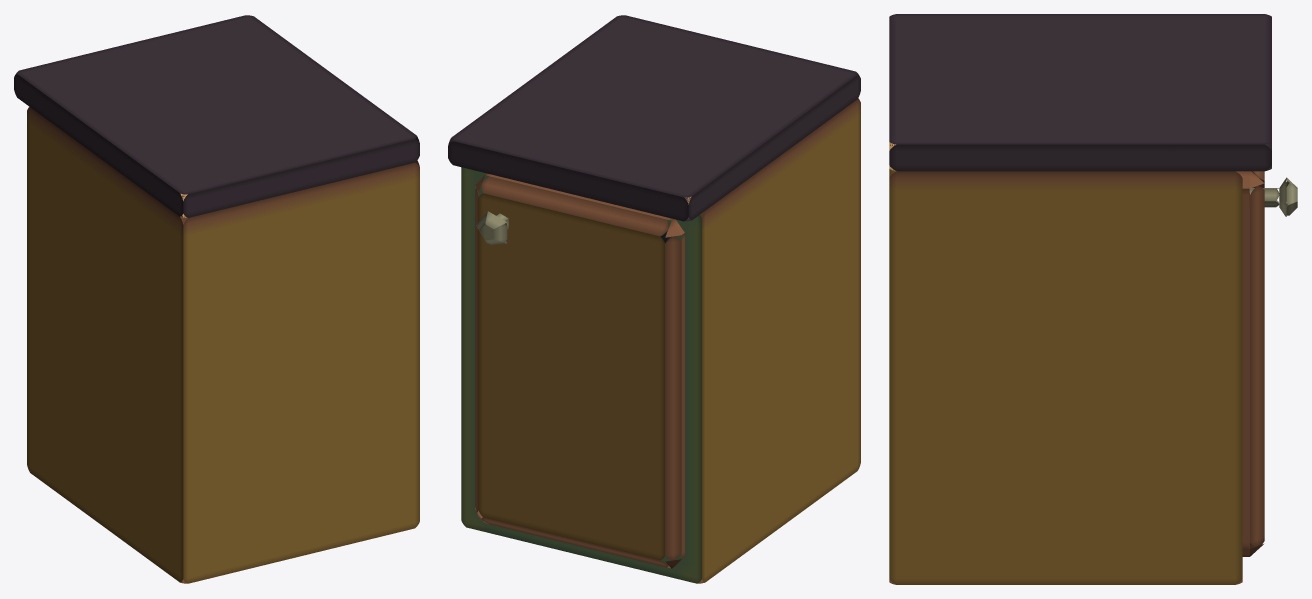
The model's file is Countertop.fbx.
The picture shows the model from 3 angles, left to right: view 1: azimuth 30°, elevation 25°; view 2: azimuth 150°, elevation 25°; view 3: azimuth 270°, elevation 25°; orthographic projection. The views are drawn at different scales.
Parts seen in each view (by area): view 1: main; view 2: main, beveled_cuboid; view 3: main, beveled_cuboid.
Boxes of the visible parts, bbox=[...] form: main: bbox=[14, 15, 419, 583]; main: bbox=[448, 15, 860, 583]; beveled_cuboid: bbox=[475, 173, 684, 568]; main: bbox=[889, 14, 1271, 584]; beveled_cuboid: bbox=[1236, 171, 1297, 556].
Bounding box in the file's own units: 62.81 × 98.7 × 83.
